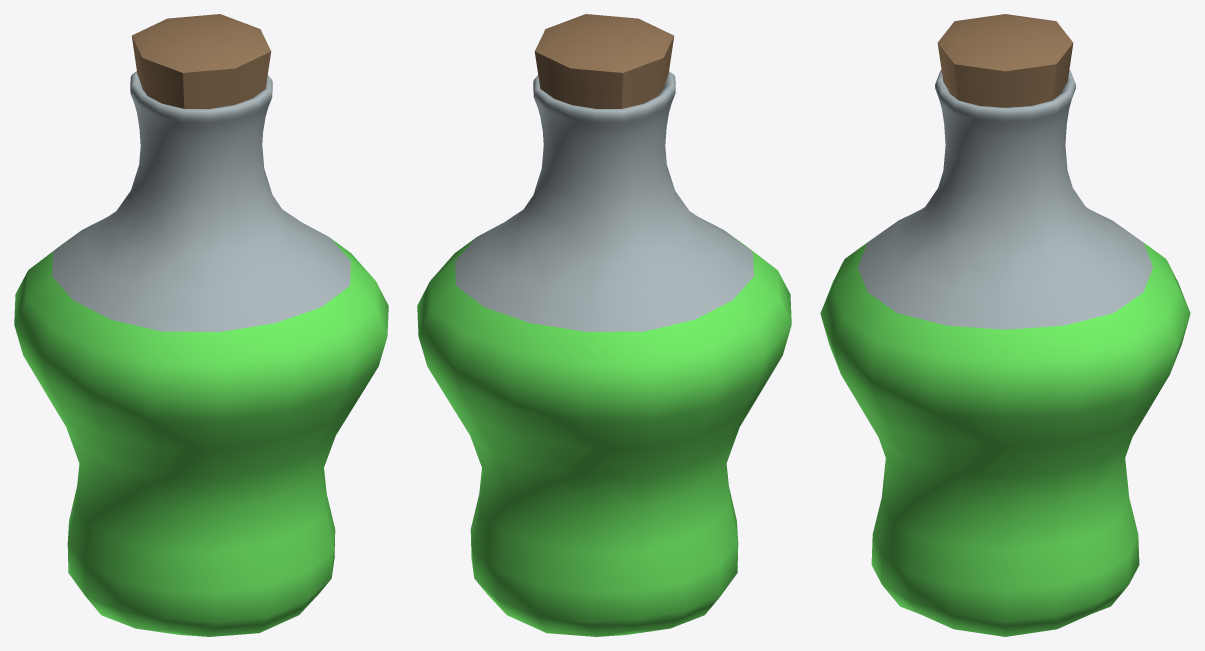
The model's file is potion_green.glb.
The picture shows the model from 3 angles, left to right: view 1: azimuth 30°, elevation 25°; view 2: azimuth 150°, elevation 25°; view 3: azimuth 270°, elevation 25°; orthographic projection.
Visible parts, largest first — view 1: potion_green; view 2: potion_green; view 3: potion_green.
Boxes of the visible parts, left/top/right/bottom form: potion_green: left=14, top=14, right=388, bottom=636; potion_green: left=417, top=14, right=791, bottom=636; potion_green: left=820, top=14, right=1190, bottom=636.
Bounding box in the file's own units: 0.1409 × 0.24 × 0.1409.
